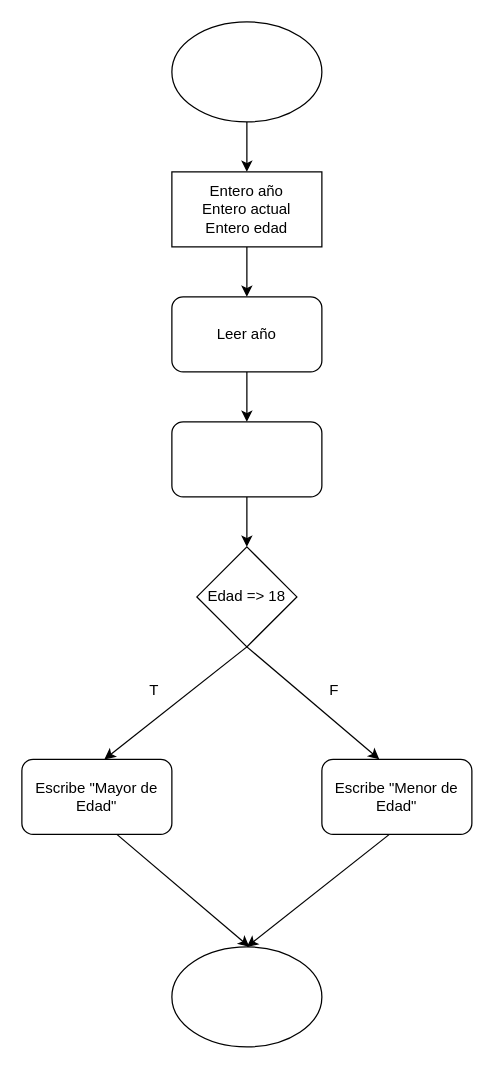
Some shapes in this 494 by 1069 pixel diagram are drawn without their labels. Each missing label, with the centre of its shape:
"Edad = actual - año" goes at point 246,459.
"FIN" goes at point 246,996.
"INICIO" goes at point 246,71.
